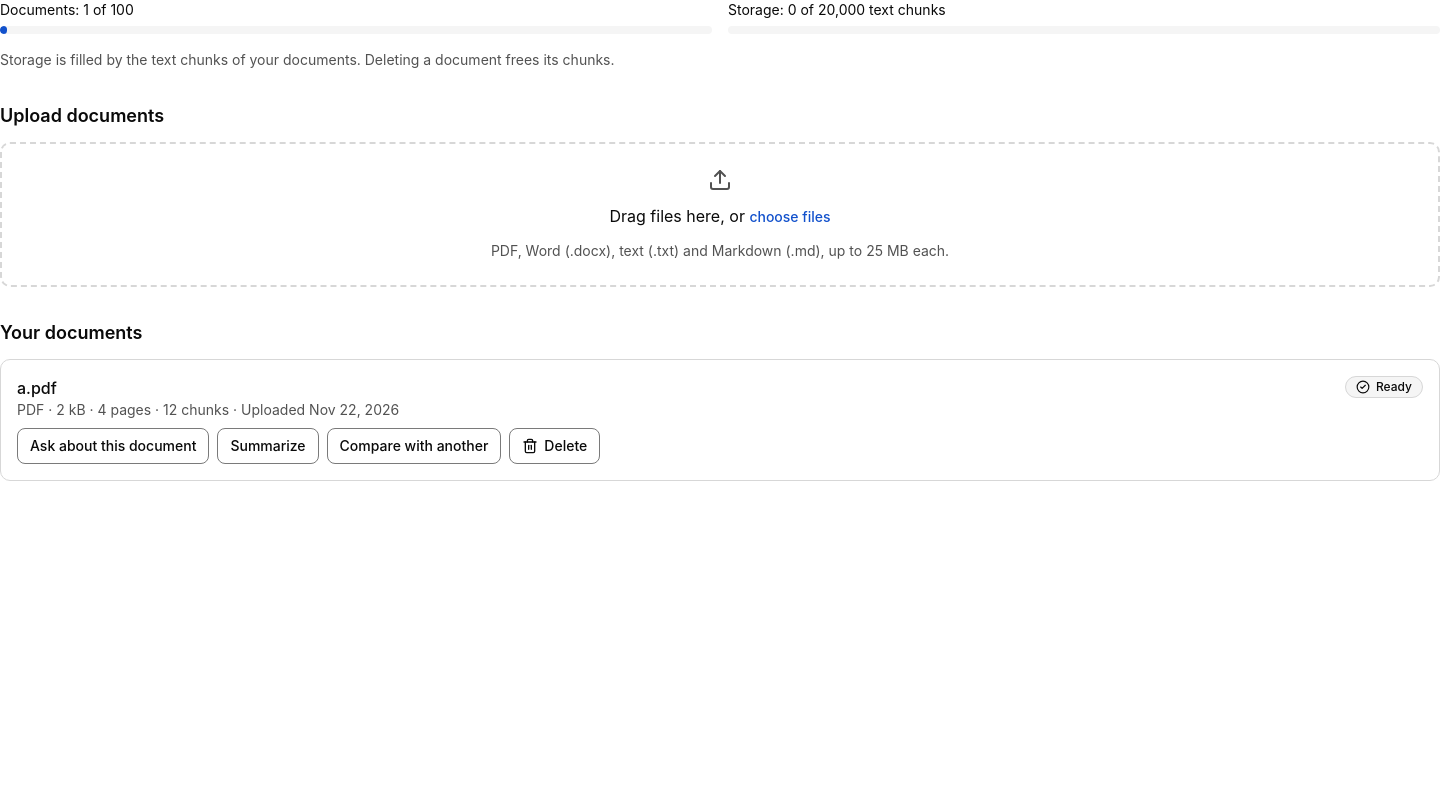
DocumentsView › keeps the document and shows the message when the delete fails
Click the button with aria-label "Delete a.pdf". click: (555, 446)
box: [509,428,600,464]
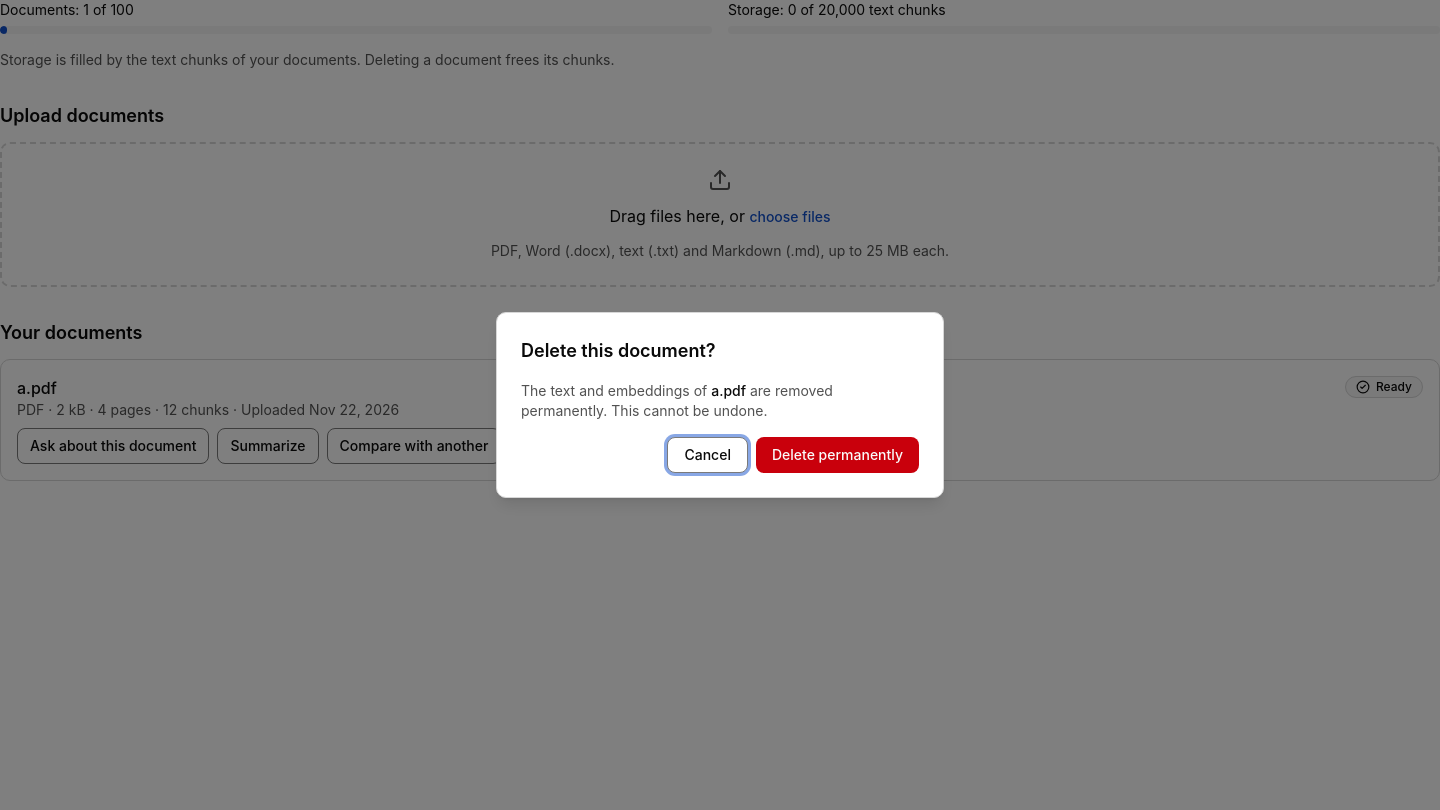
Click the button "Delete permanently". click: (838, 455)
box: [756,437,919,473]
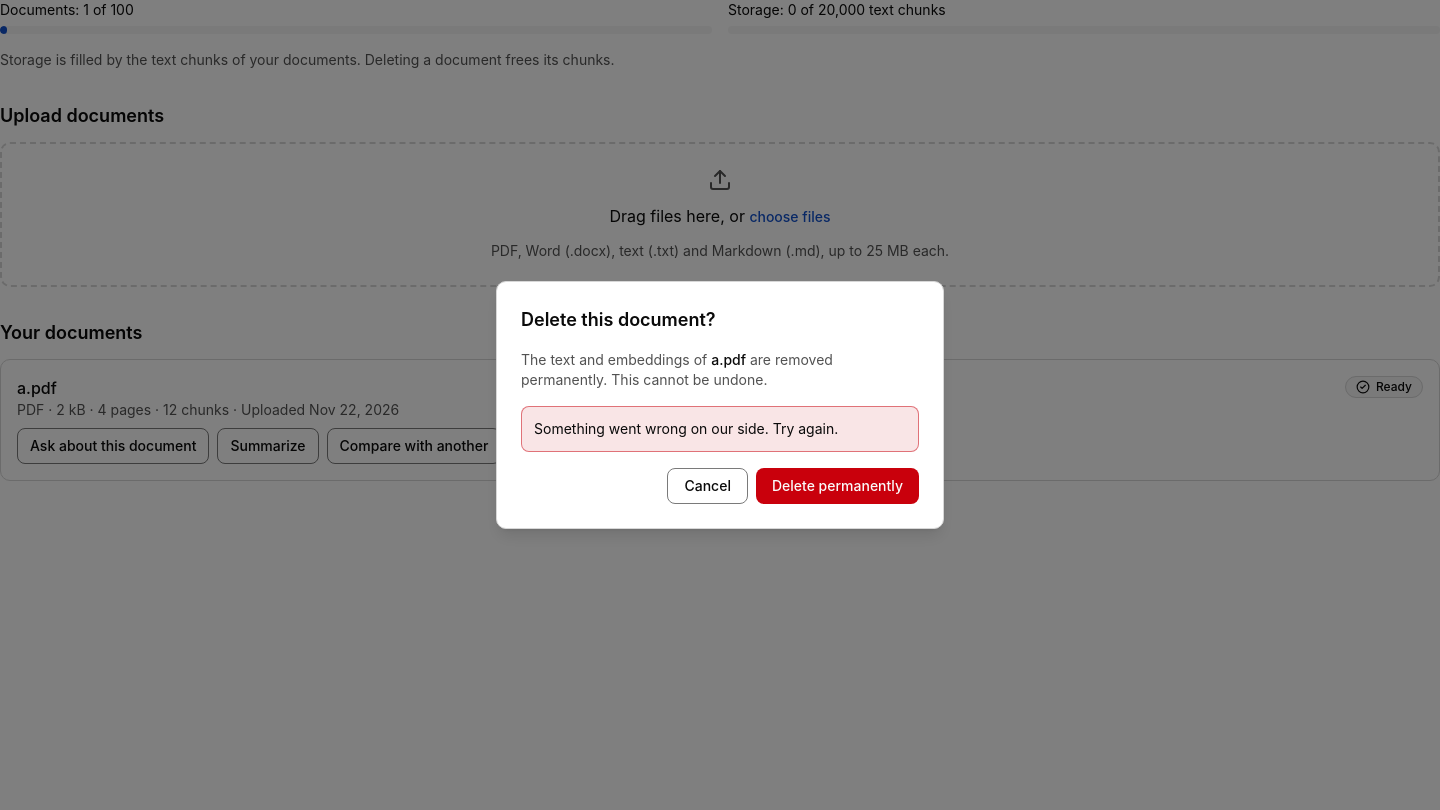
Check: the text with test id "doc-name" reads "a.pdf", box [17,378,57,398]
Check: the text "Something went wrong on our side. Try again." is shown, box [534,420,838,437]
